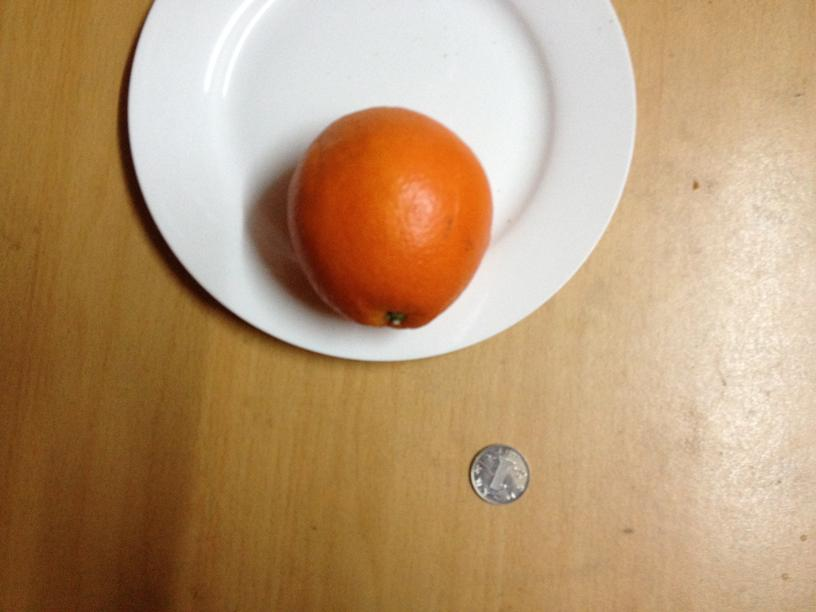coin: (470, 440, 529, 507)
orange: (287, 107, 493, 327)
